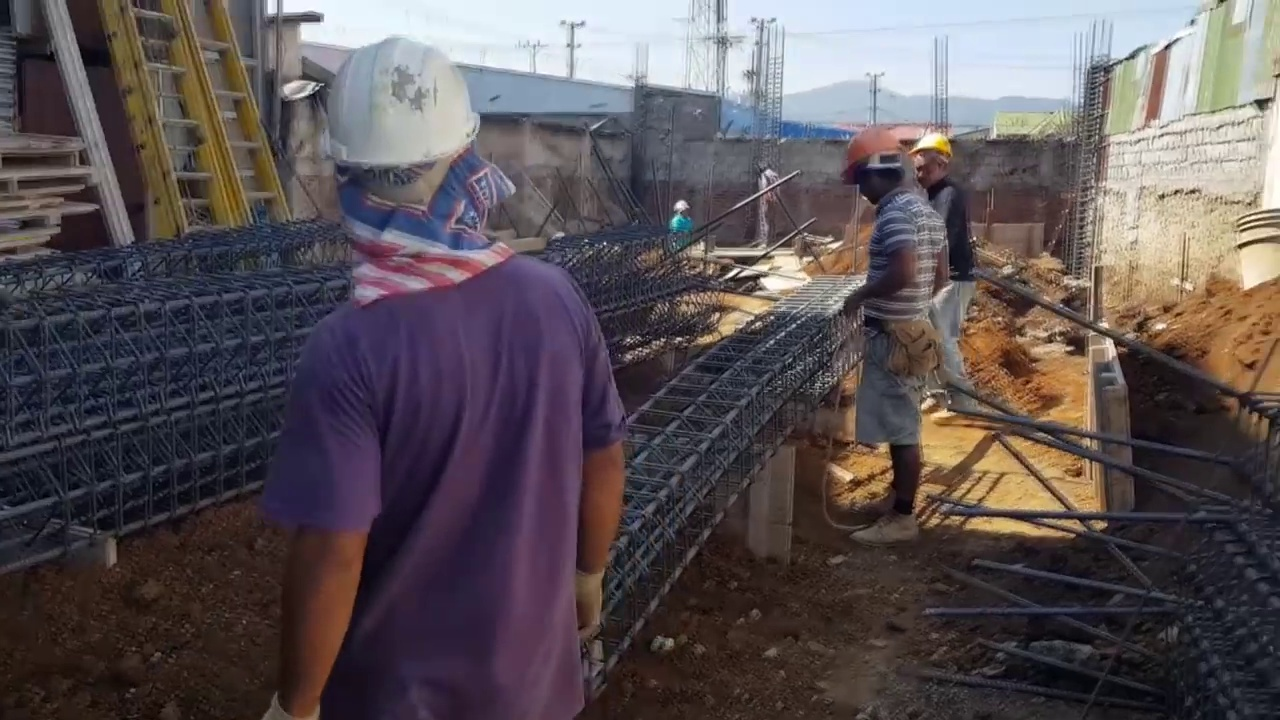helmet: (330, 59, 481, 175), (843, 129, 904, 181), (911, 129, 953, 164), (672, 200, 690, 214)
helmet-off: (755, 160, 771, 176)
helmet-on: (317, 36, 483, 267), (843, 128, 914, 210), (910, 127, 960, 184), (673, 198, 690, 220)
person: (255, 35, 624, 720), (845, 128, 948, 529), (908, 126, 981, 423), (755, 161, 780, 253), (665, 200, 692, 246)
